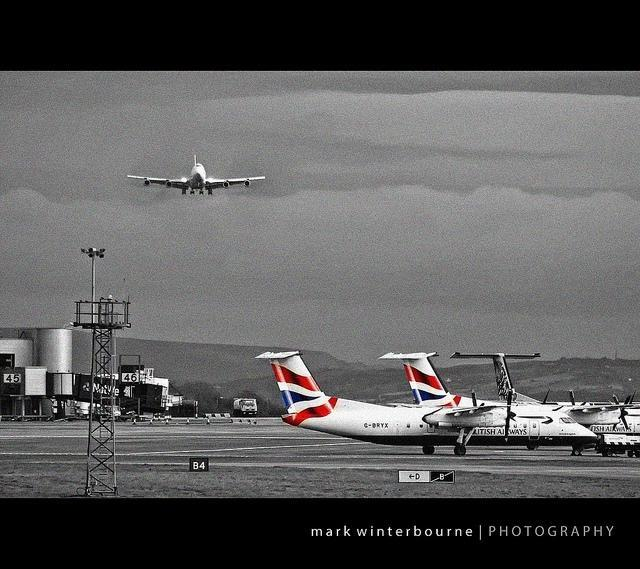truck: (234, 397, 258, 416)
